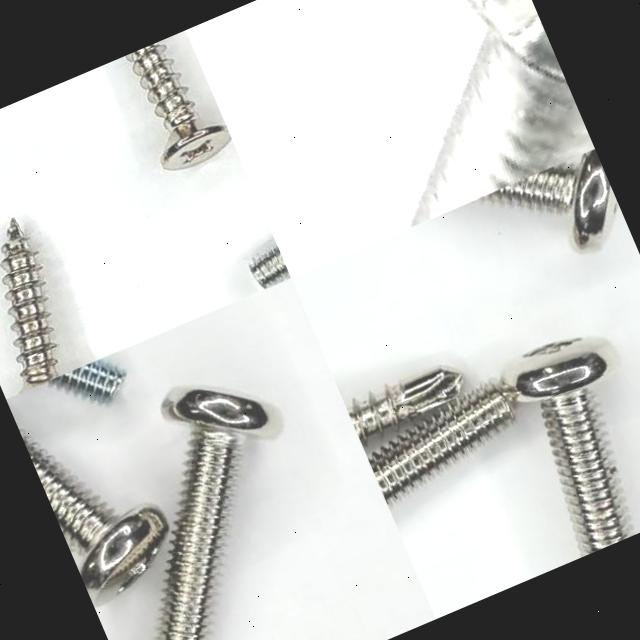Screw: (406, 0, 595, 228), (159, 386, 281, 640), (501, 338, 632, 557), (20, 431, 167, 605), (368, 383, 514, 502), (126, 41, 231, 170), (479, 148, 616, 246), (0, 219, 57, 394), (347, 366, 460, 439), (47, 359, 125, 402), (248, 244, 290, 288)
